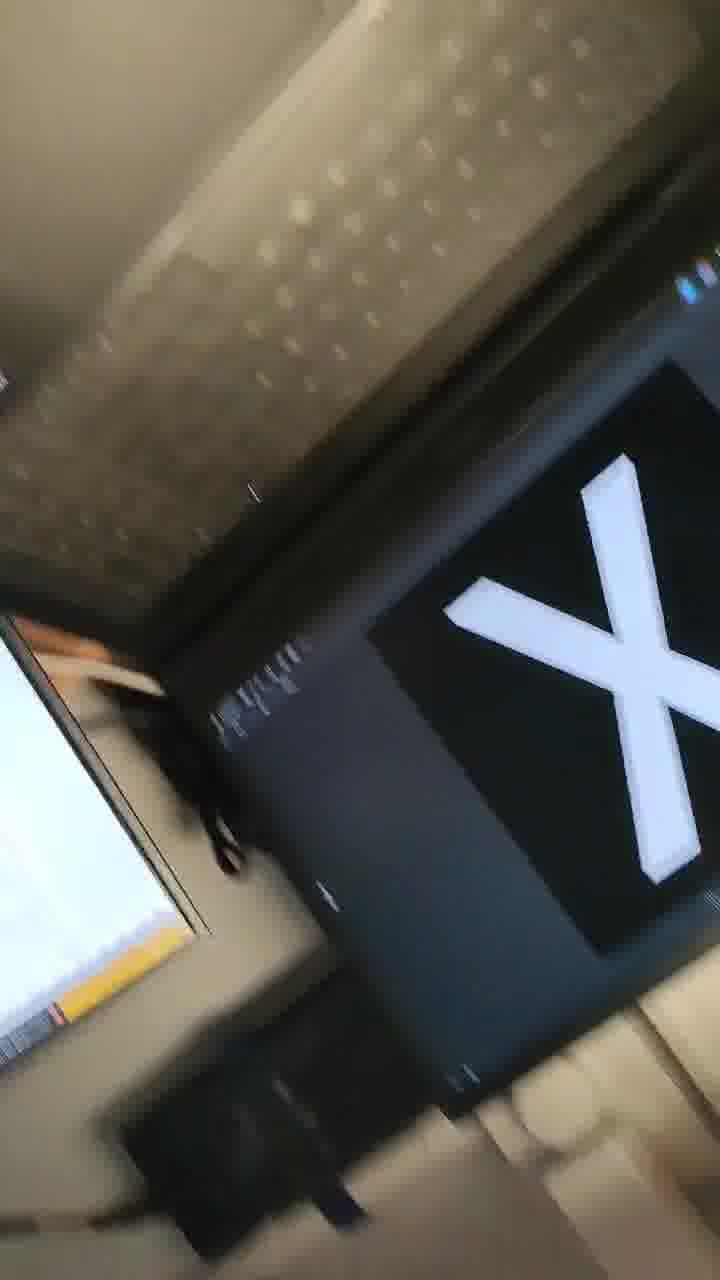X: (397, 429, 720, 976)
